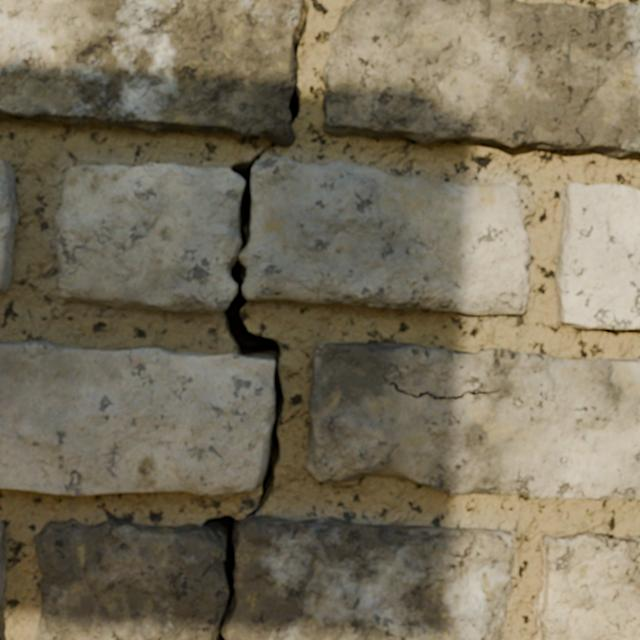broken_brick: (242, 157, 530, 315), (227, 515, 514, 639), (55, 163, 245, 313), (34, 517, 227, 639)
crack: (0, 0, 310, 515), (305, 342, 639, 500), (322, 0, 639, 158), (555, 183, 639, 329), (531, 532, 639, 639), (202, 514, 240, 639), (0, 160, 18, 292), (0, 523, 5, 606), (278, 295, 294, 296)
